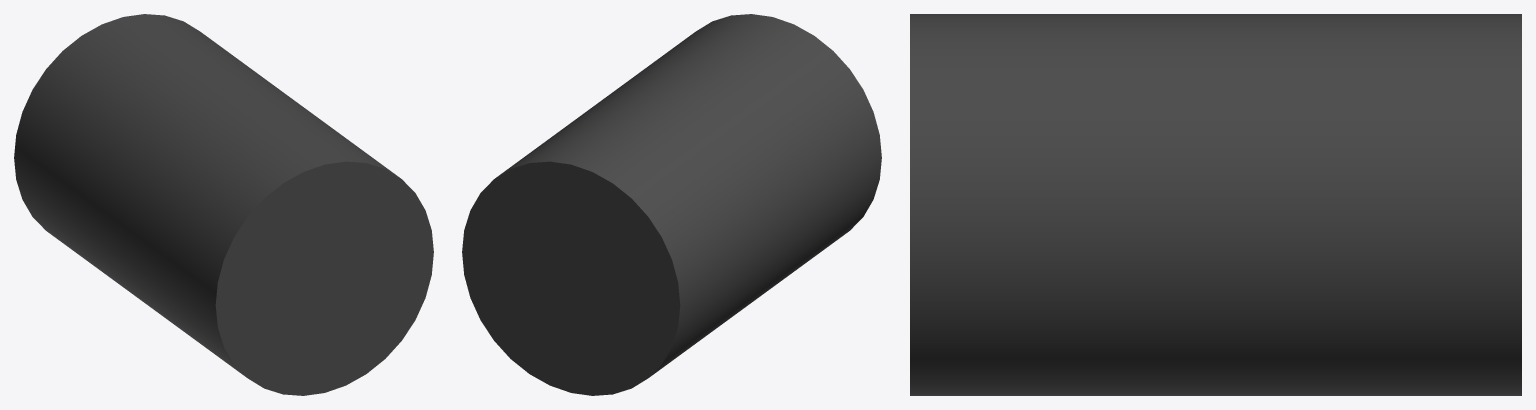
Rendered from Turret.fbx.
The picture shows the model from 3 angles, left to right: view 1: azimuth 30°, elevation 25°; view 2: azimuth 150°, elevation 25°; view 3: azimuth 270°, elevation 25°; orthographic projection. The views are drawn at different scales.
Visible parts, largest first — view 1: Cylinder; view 2: Cylinder; view 3: Cylinder.
Boxes of the visible parts, left/top/right/bottom form: Cylinder: left=14, top=14, right=433, bottom=395; Cylinder: left=462, top=14, right=881, bottom=395; Cylinder: left=910, top=14, right=1521, bottom=395.
Size of the model in its own units: 50 by 50 by 80.
Materials: 1 (1 with a texture image).
